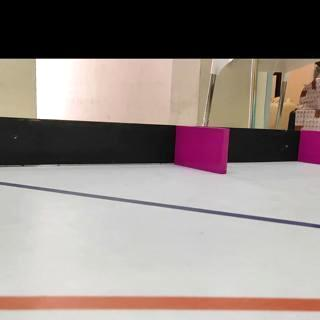xparking: (180, 128, 224, 170), (302, 133, 320, 163)
